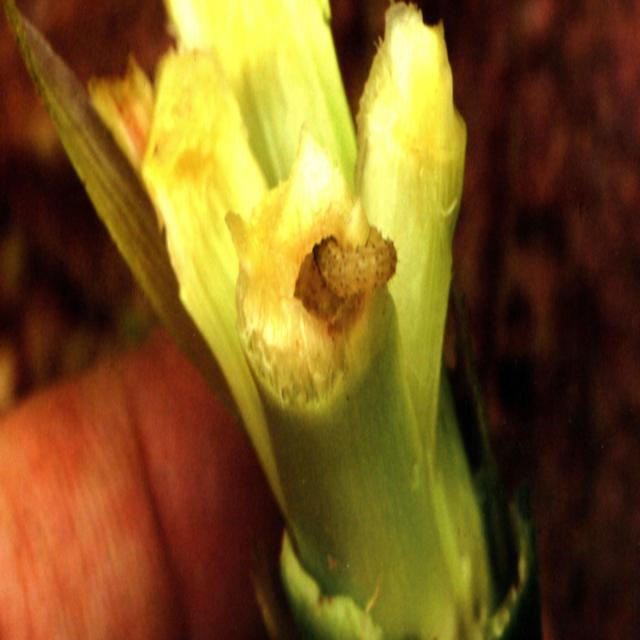peach borer: (316, 227, 407, 308)
